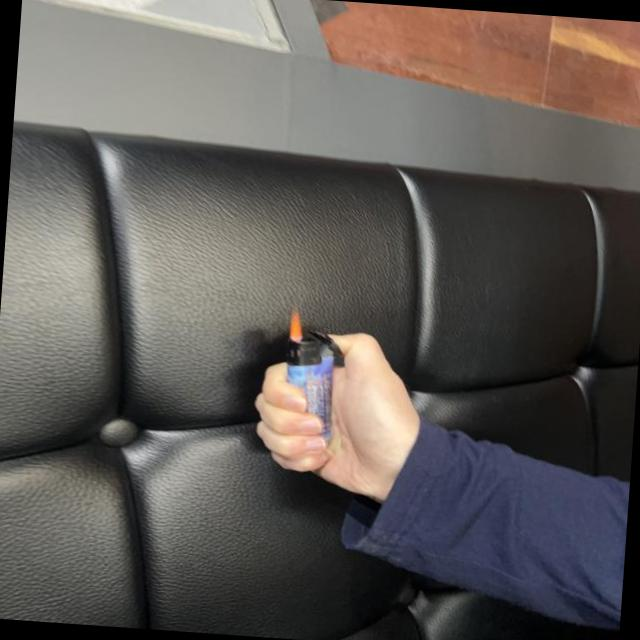Fire: (284, 307, 304, 345)
